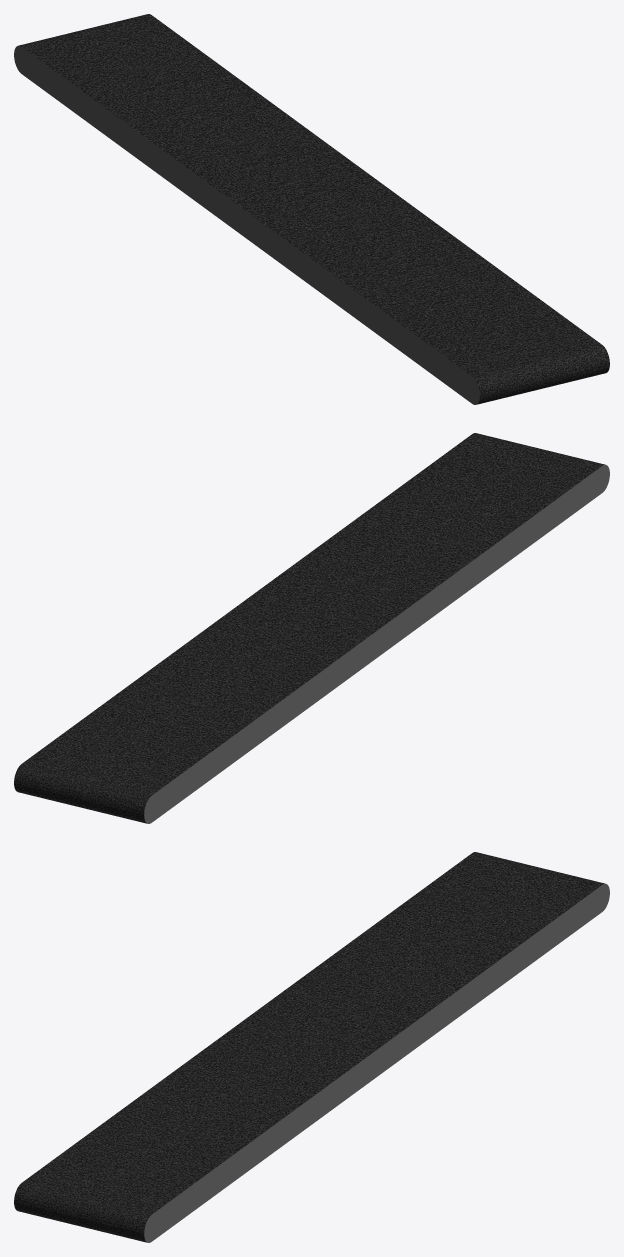
File: конвеер.fbx
3 views of the same model, one above another, from view 1: azimuth 30°, elevation 25°; view 2: azimuth 150°, elevation 25°; view 3: azimuth 330°, elevation 25° (orthographic).
Parts seen in each view (by area): view 1: Cube; view 2: Cube; view 3: Cube.
Boxes of the visible parts, x1,y1,x2,y2 form: Cube: (14, 14, 609, 404); Cube: (14, 433, 609, 823); Cube: (14, 852, 609, 1242).
Bounding box in the file's own units: 100 × 20 × 620.
2 materials, 1 textured.
